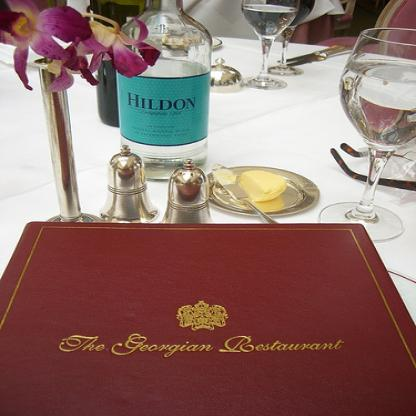bottle: (112, 0, 214, 184), (94, 0, 156, 128)
diningtable: (0, 34, 415, 415)
